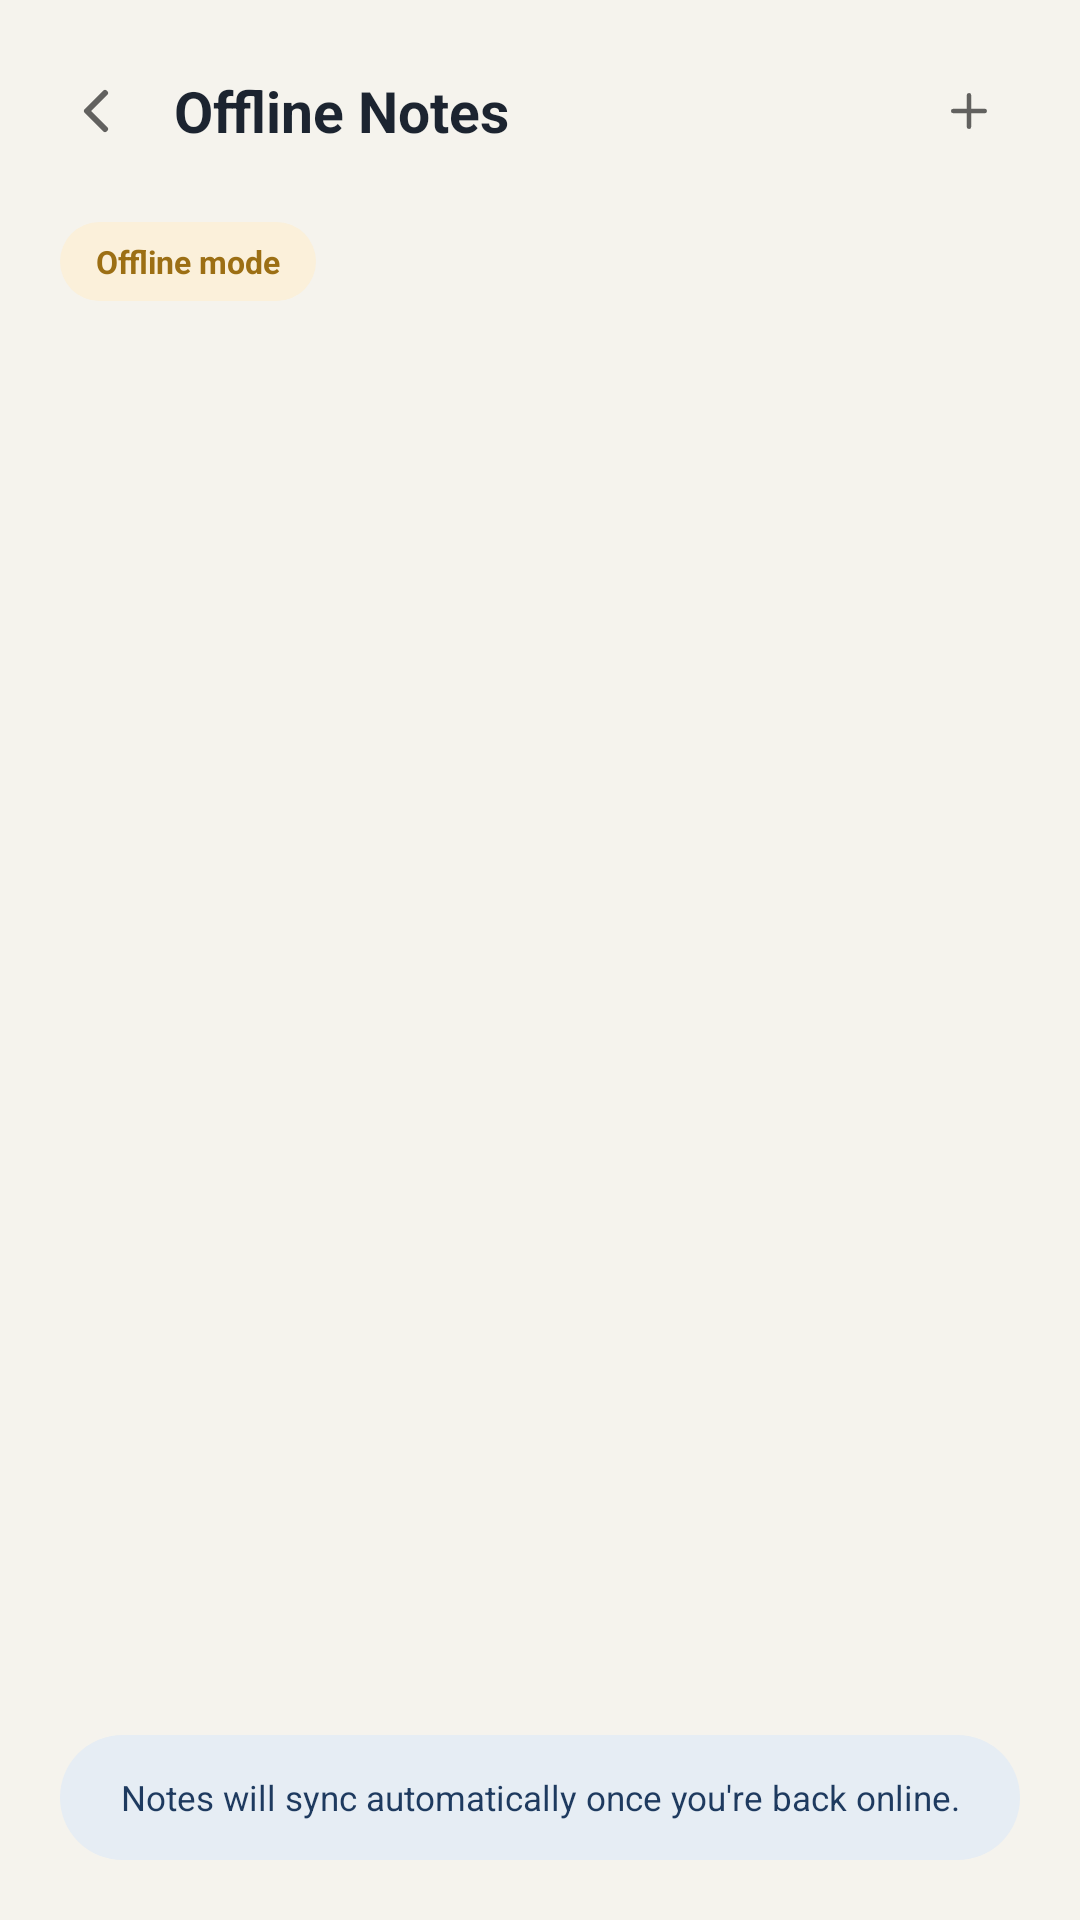

Icon click points for this 1080px x 1920px phone screenshot, format point (x, y):
add: point (969, 111)
back: point (96, 111)
